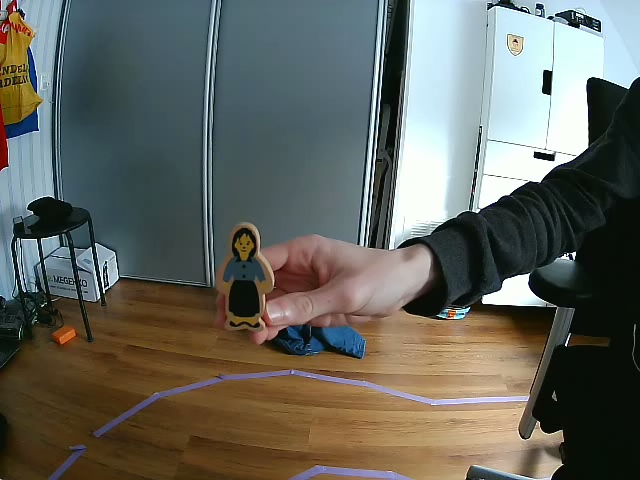mens: (218, 222, 276, 332)
